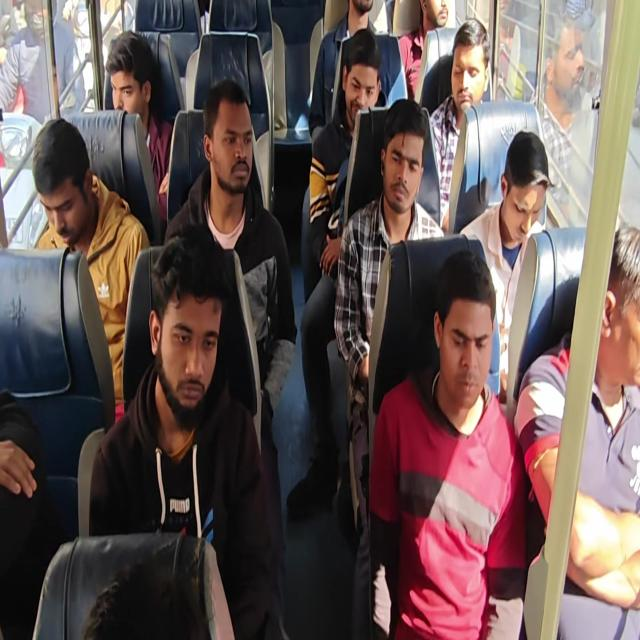person: (2, 1, 638, 638), (87, 224, 286, 638), (368, 248, 527, 638), (333, 98, 446, 637), (513, 222, 639, 634), (286, 28, 386, 516), (163, 78, 297, 424), (31, 117, 150, 424), (458, 130, 554, 402), (306, 29, 385, 291), (532, 17, 598, 227), (427, 18, 491, 232), (104, 30, 174, 222), (0, 388, 50, 638), (0, 0, 85, 124), (308, 0, 382, 141), (80, 560, 212, 639), (396, 0, 448, 101)
